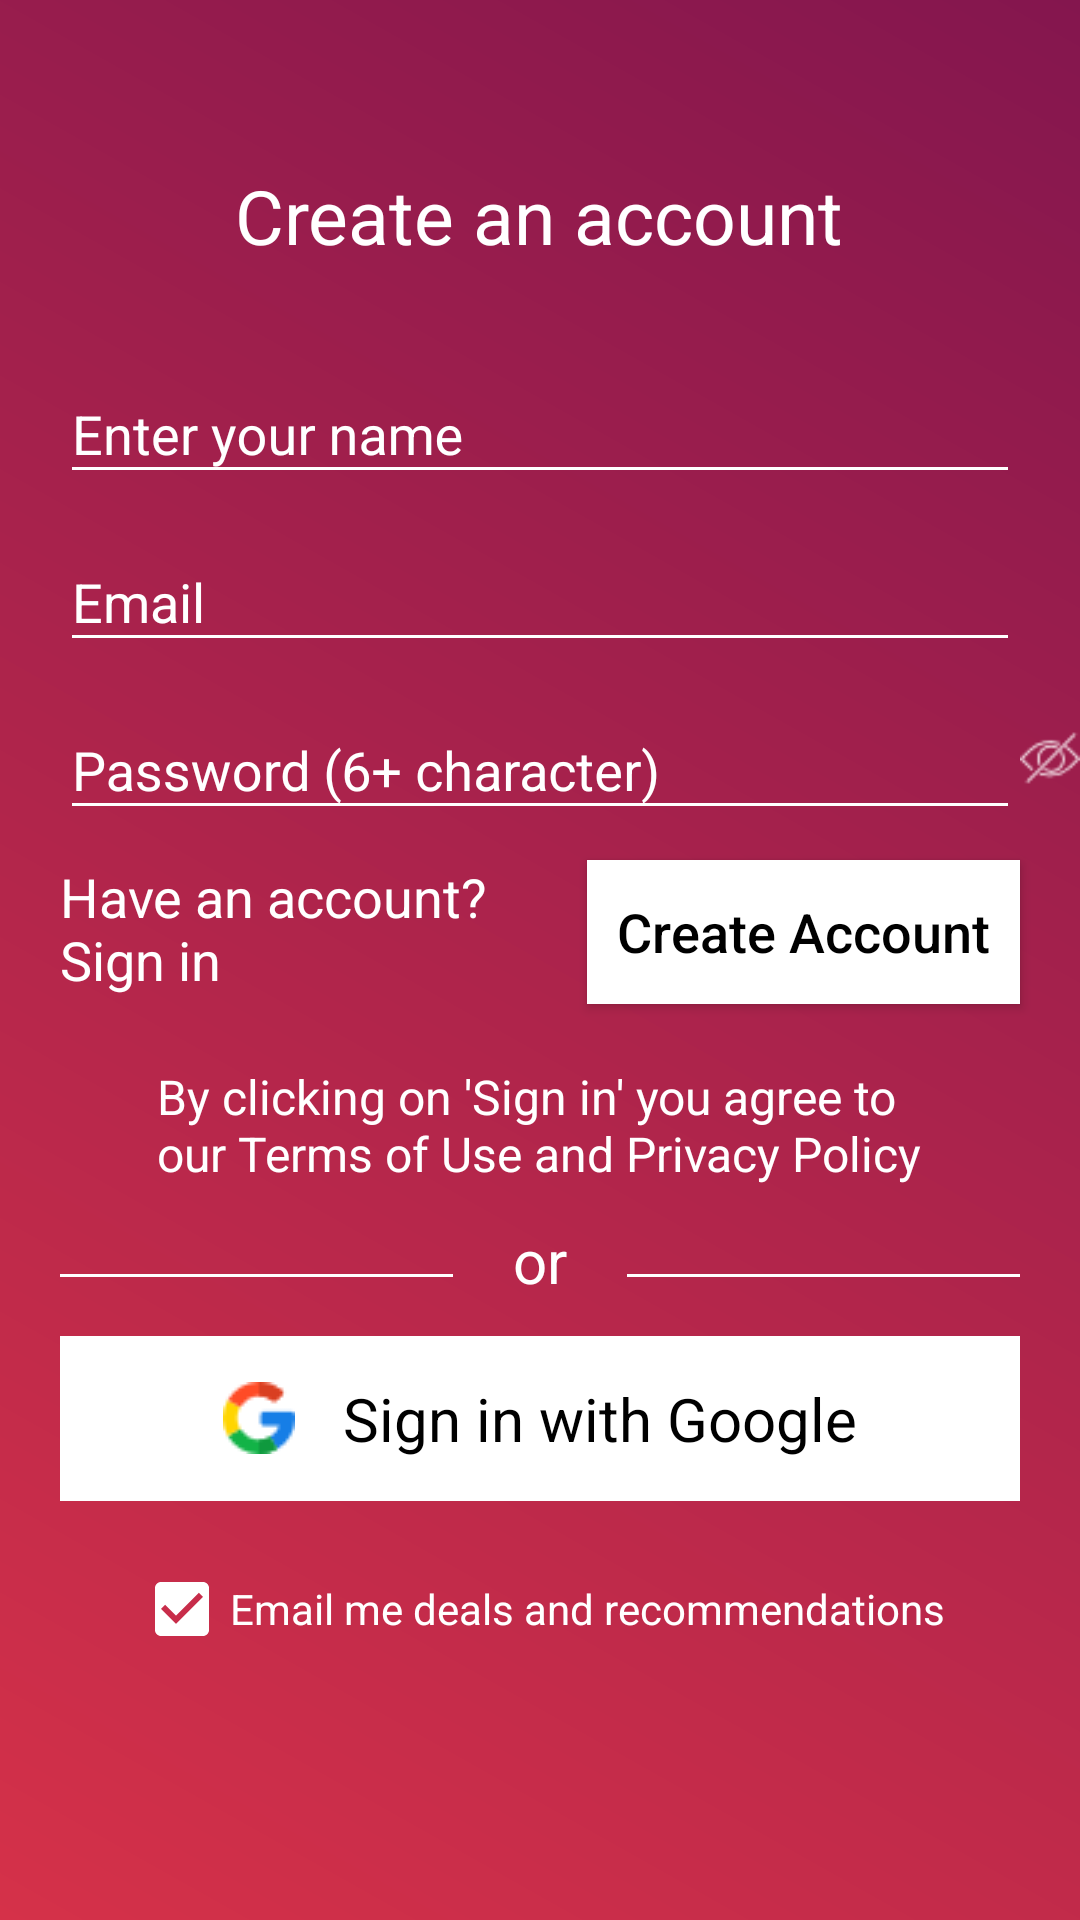

Named icons in this screenshot (1080*1920) and their centers, [x,y]:
hide: [1050,758]
